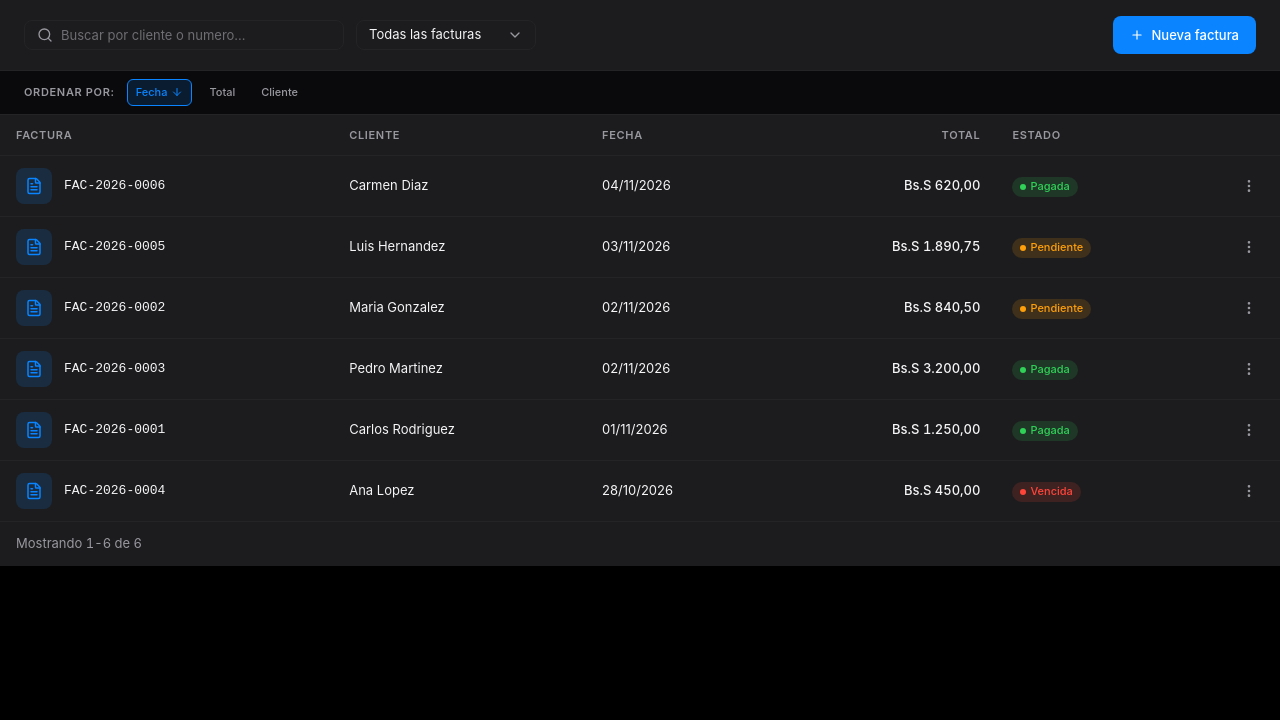
Test: Billing › filters invoices by status
Expected: the text "FAC-2026-0001" is shown, [64,420,165,440]
Step 1. Select "Vencidas" in the dropdown → (446, 35), box [369,21,523,49]
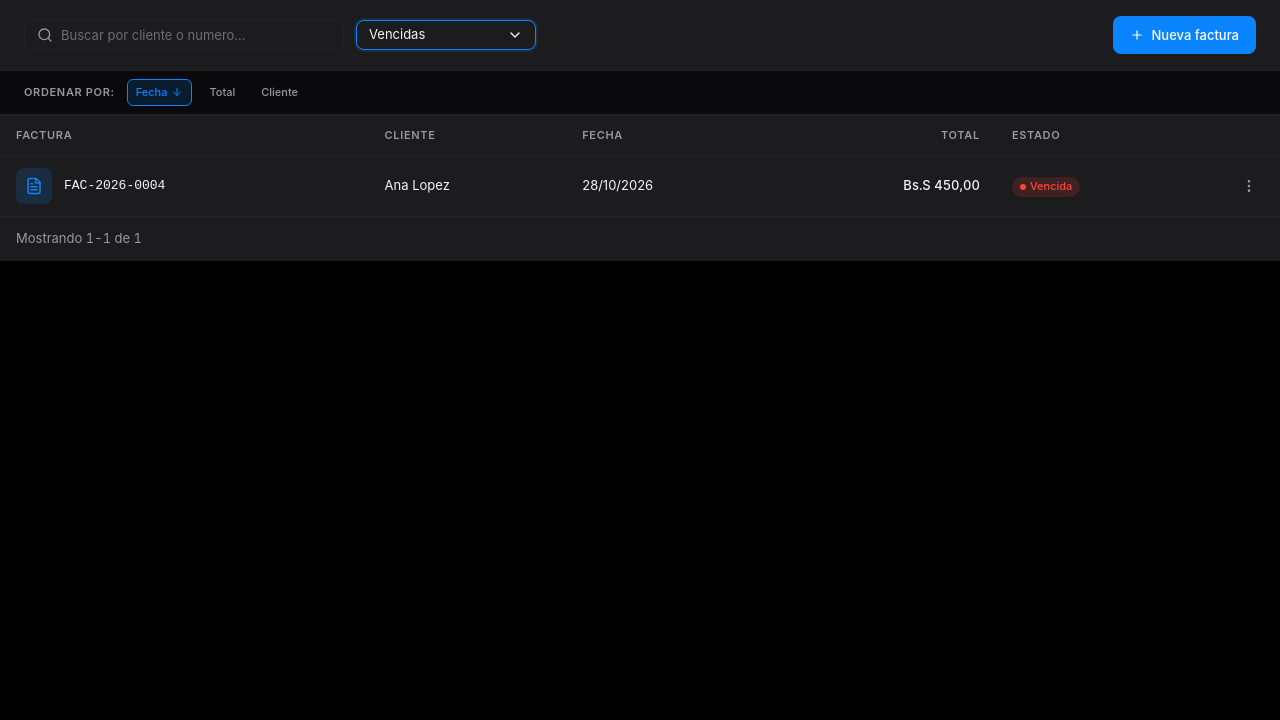
Expected: the text "FAC-2026-0004" is shown, [64,176,165,196]
Now the text "FAC-2026-0001" is gone
